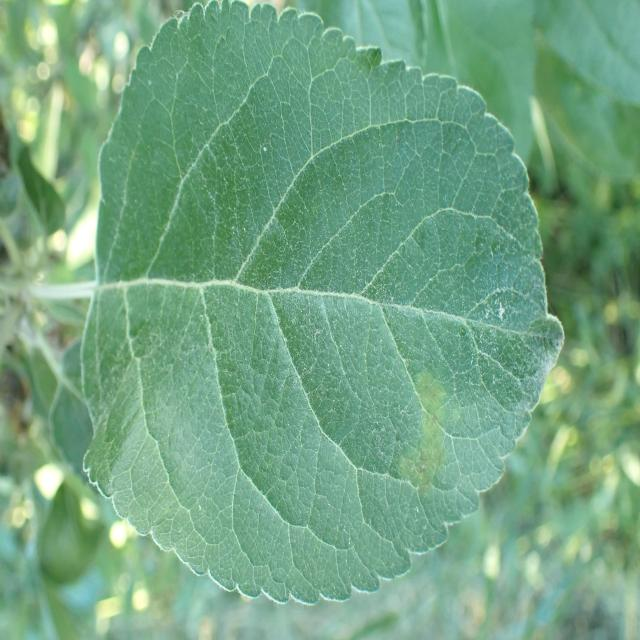scab: (121, 102, 528, 541)
